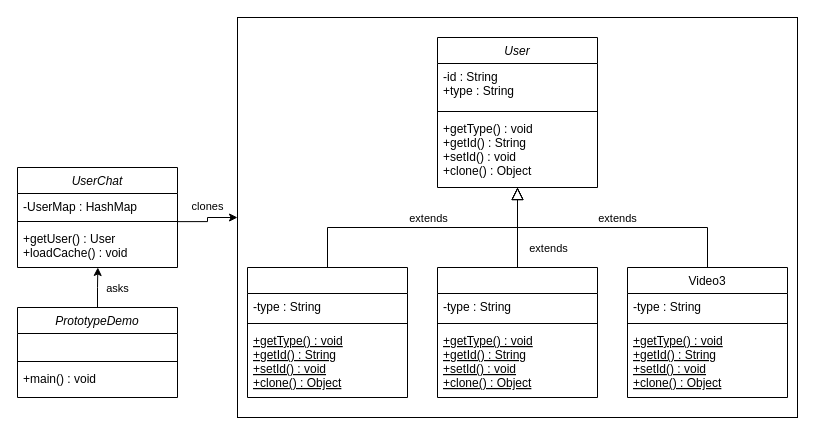
Some shapes in this 815 by 435 pixel diagram are drawn without their labels. Here are the shapes that lost their labels. From the top down, the box of each, then its label:
(246, 266, 408, 398): Video1
(436, 266, 598, 398): Video2
